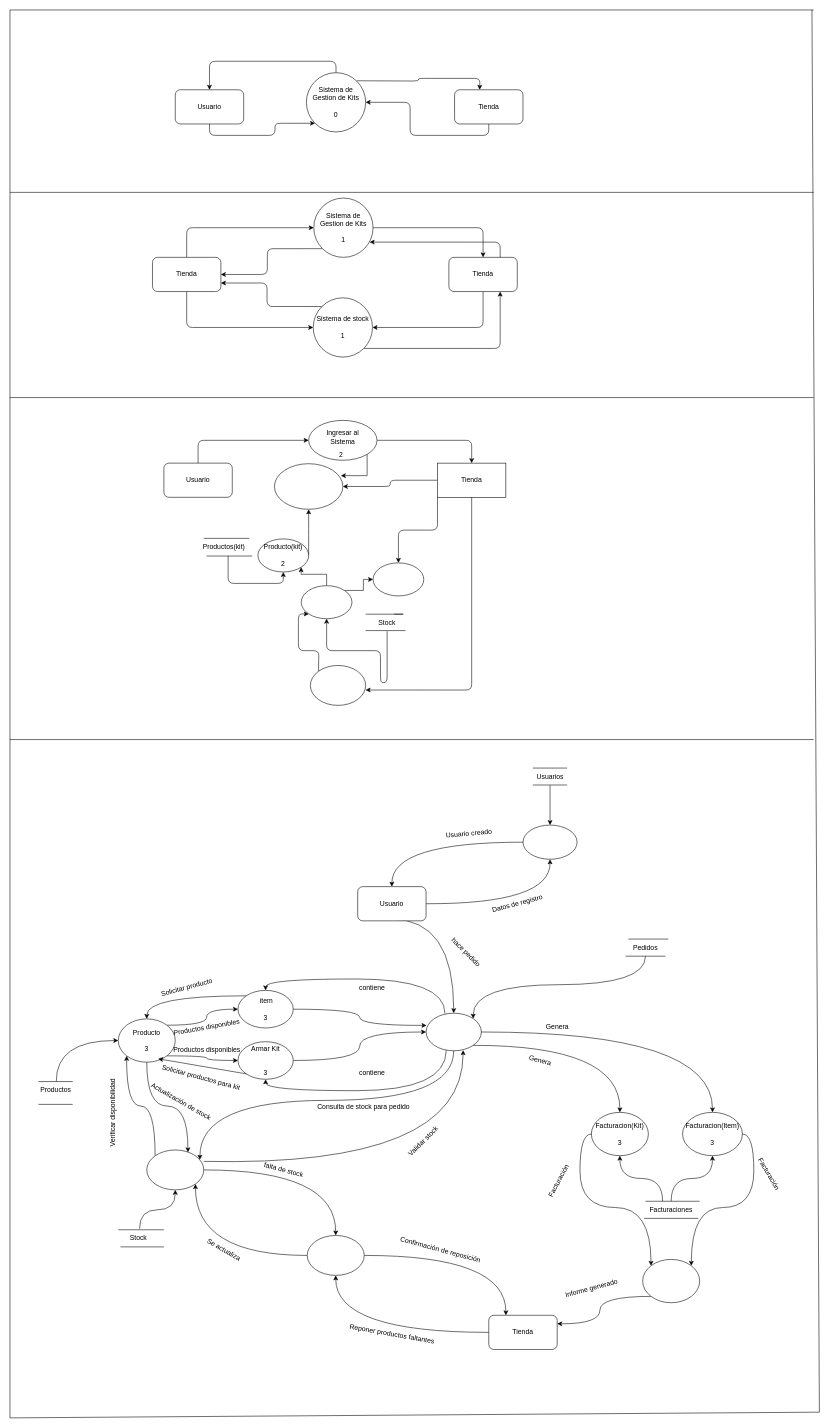
The diagram is 830 pixels wide and 1428 high, and some of its shapes have lost their labels. The shapes that lost their labels are listed below. From the top down, each one's centre as x and y in pixels, then its label:
At point (308, 486): "Gestionar kit 2".
At point (398, 579): "Producto 2".
At point (326, 602): "Stock 2".
At point (338, 685): "Administrar stock 2".
At point (549, 842): "Registrarse 3".
At point (453, 1032): "Pedido 3".
At point (175, 1169): "Stock 3".
At point (335, 1255): "RellenarStock 3".
At point (671, 1281): "Generar Informe 3".
